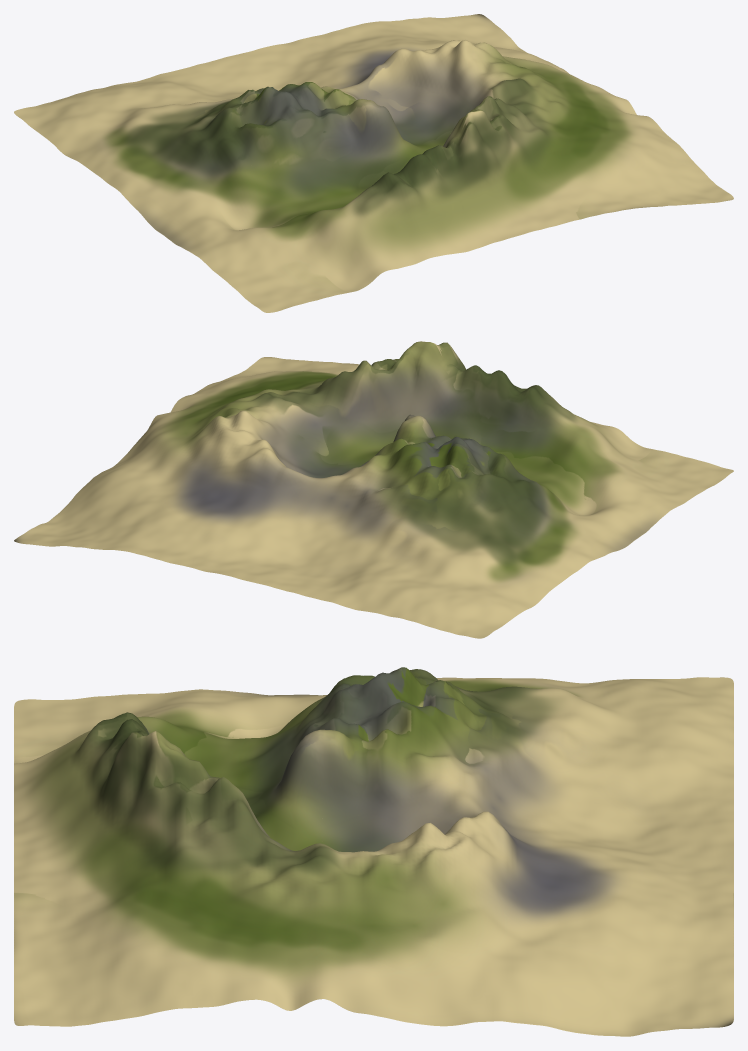
Rendered from valley_island.obj.
3 views of the same model, one above another, from view 1: azimuth 30°, elevation 25°; view 2: azimuth 150°, elevation 25°; view 3: azimuth 270°, elevation 25° (orthographic). The views are drawn at different scales.
Visible parts, largest first — view 1: new_island_Plane; view 2: new_island_Plane; view 3: new_island_Plane.
Part boxes in pixels (x1,y1,x2,y2): new_island_Plane: (14,14,733,312); new_island_Plane: (14,341,733,638); new_island_Plane: (14,667,733,1036).
Bounding box in the file's own units: 40.86 × 9.13 × 38.19.
1 material, 1 textured.
